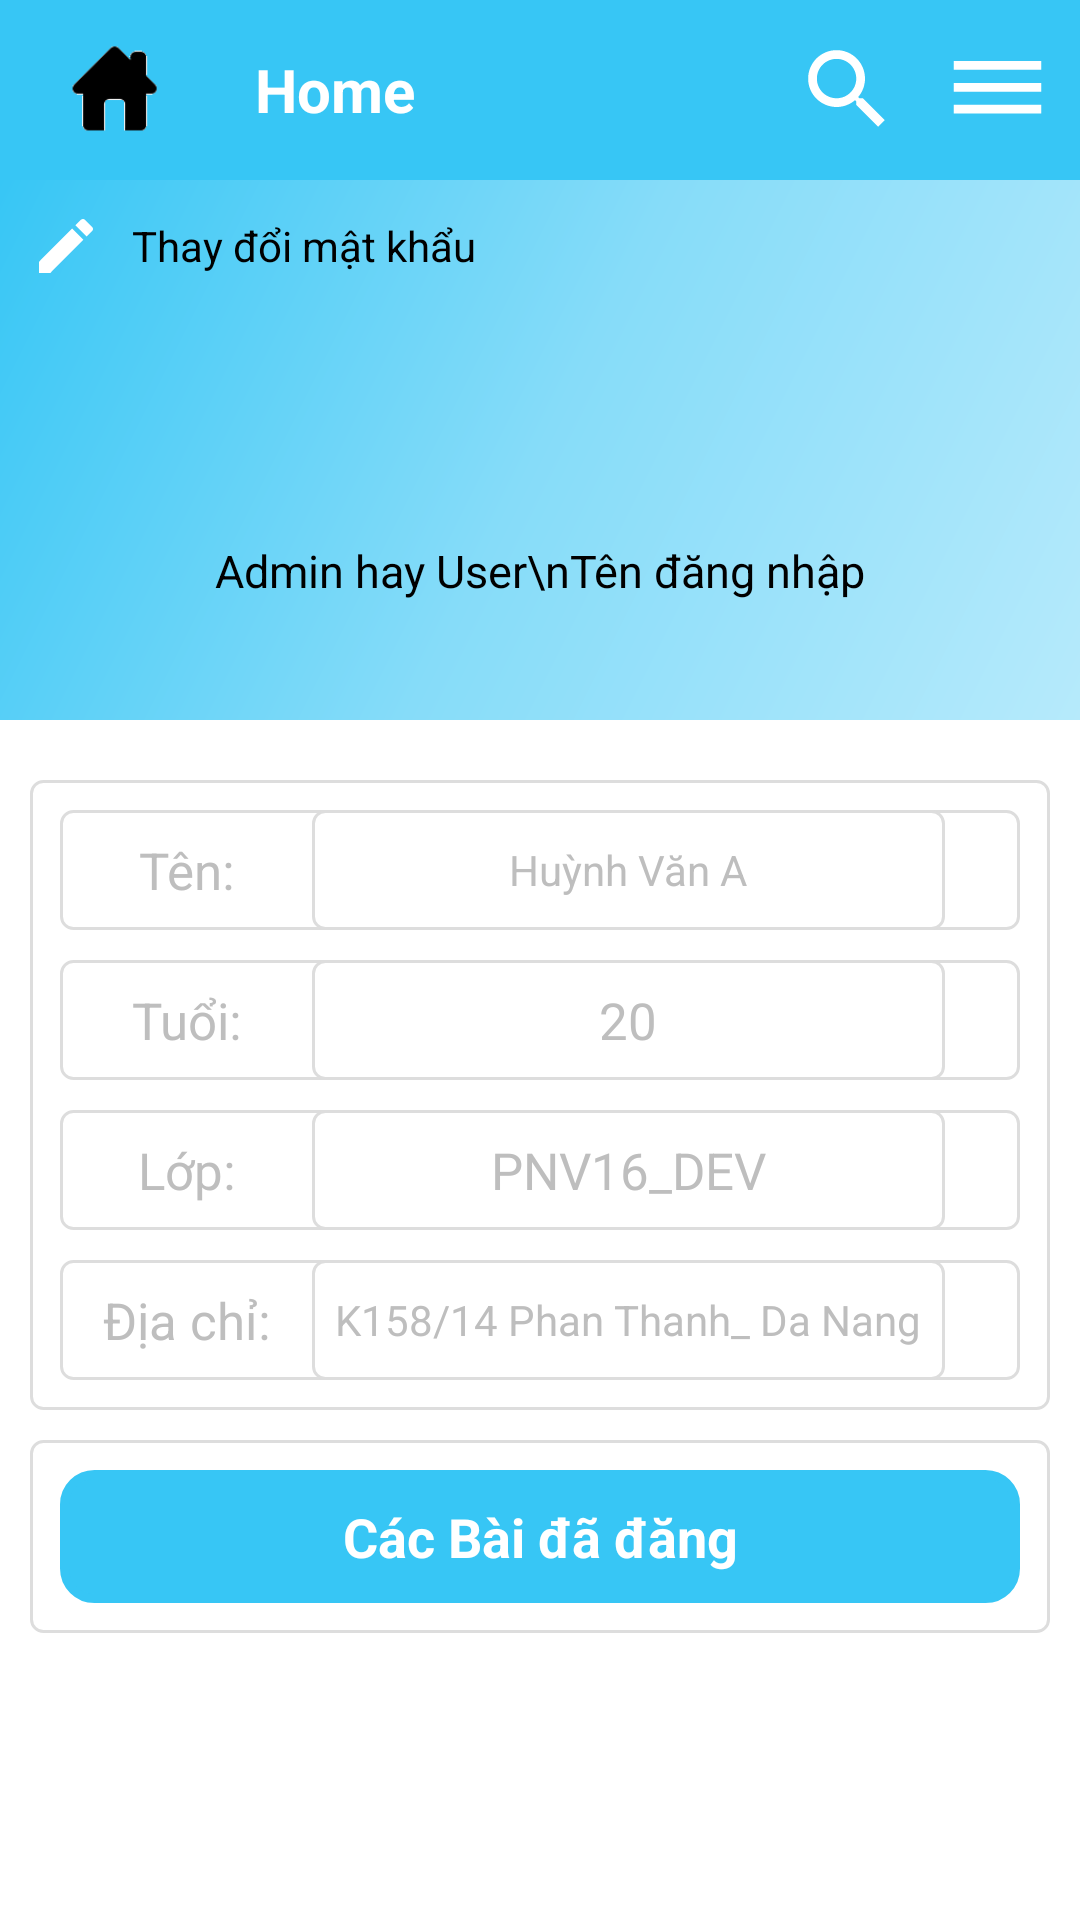

Where to tap for icons on this 1080px x 1920px app screen, as point (x, y):
menu: point (997, 87)
search: point (846, 88)
